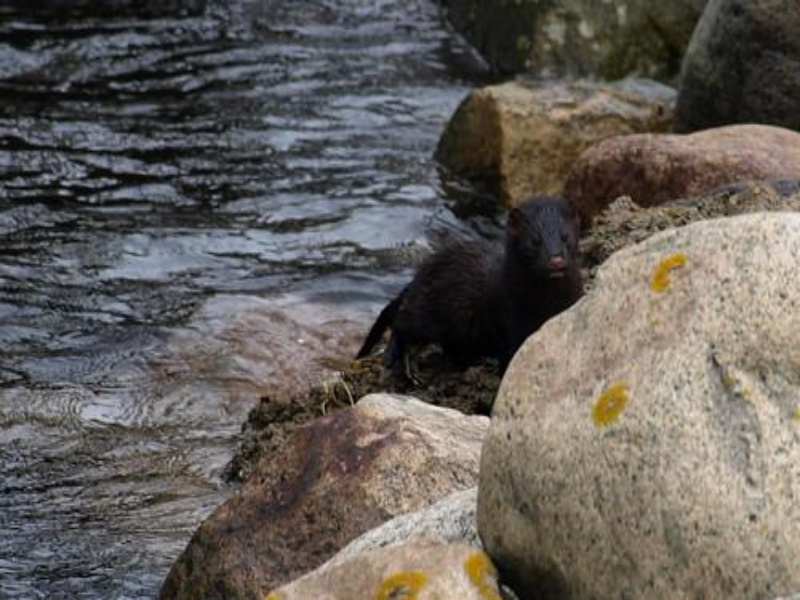minkish: (354, 194, 585, 389)
